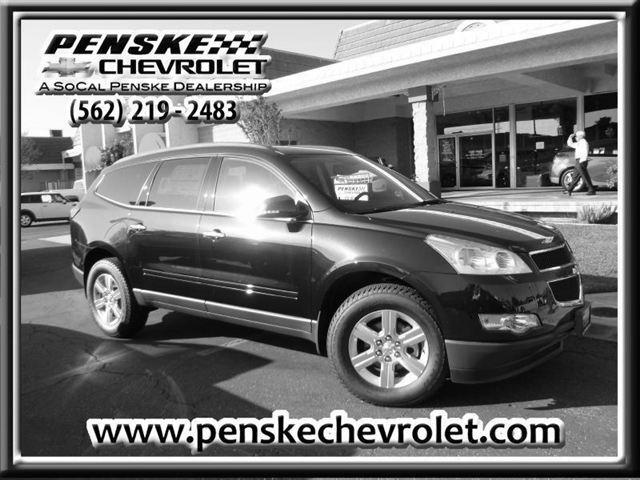car: (67, 137, 597, 408)
